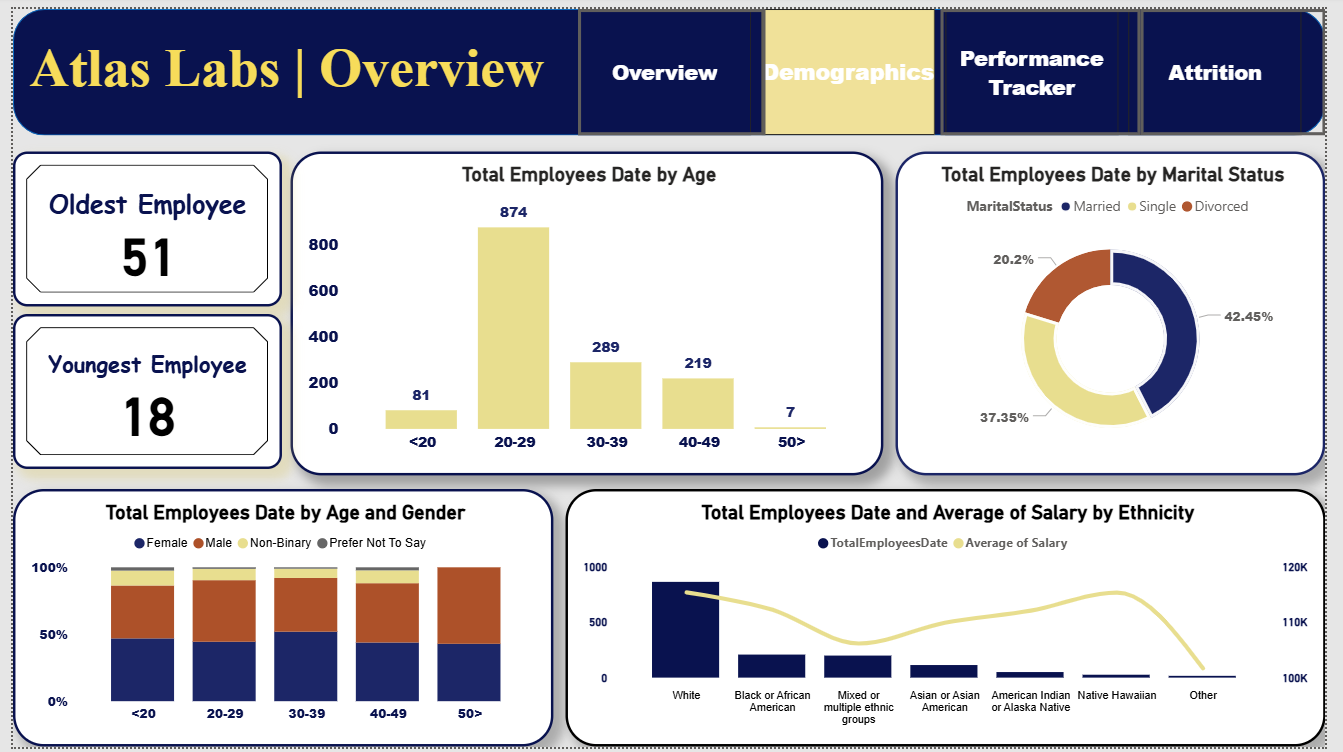

The page's visual inventory and layout, read from the dashboard file:
{"tool":"powerbi","page":{"name":"Demographics","canvas":[1280,720],"ordinal":1},"visuals":[{"type":"shape","box":[0,0,1280.3,123.5],"z":0},{"type":"textbox","box":[11,22,520.1,81],"z":1000},{"type":"pageNavigator","box":[551.6,0,706.7,123.5],"z":2000},{"type":"clusteredColumnChart","title":"Total Employees Date by Age ","fields":{"Y":["_Measures.TotalEmployeesDate"],"Category":["DimEmployee.Age Bins"]},"box":[270.7,139,578,315.9],"z":3000},{"type":"donutChart","title":"Total Employees Date by Marital Status","fields":{"Y":["_Measures.TotalEmployeesDate"],"Category":["DimEmployee.MaritalStatus"]},"box":[861,139,419.5,315.9],"z":4000},{"type":"hundredPercentStackedColumnChart","title":"Total Employees Date by Age and Gender","fields":{"Y":["_Measures.TotalEmployeesDate"],"Series":["DimEmployee.Gender"],"Category":["DimEmployee.Age Bins"]},"box":[0,468.3,526.8,251.2],"z":5000},{"type":"lineStackedColumnComboChart","title":"Total Employees Date and Average of Salary by Ethnicity","fields":{"Category":["DimEmployee.Ethnicity"],"Y":["_Measures.TotalEmployeesDate"],"Y2":["Avg(DimEmployee.Salary)"]},"box":[539,468.3,741.5,251.2],"z":6000},{"type":"cardVisual","fields":{"Data":["Max(DimEmployee.Age)"]},"box":[0,139,262.2,151.2],"z":7000},{"type":"cardVisual","fields":{"Data":["Min(DimEmployee.Age)"]},"box":[0,297.6,262.2,151.2],"z":8000},{"type":"actionButton","box":[904.9,0,195.1,123.2],"z":8001},{"type":"actionButton","box":[551.2,0,182.9,123.2],"z":8002},{"type":"actionButton","box":[1100,0,180.5,123.2],"z":8003}]}

Visuals, with their boxes in screenshot pixels (x1, y1, x2, y2), scaled from the page's 1280x720 canvas onto the 1343x752 screenshot:
shape: left=0, top=0, right=1342, bottom=129
textbox: left=12, top=23, right=557, bottom=108
pageNavigator: left=579, top=0, right=1320, bottom=129
"Total Employees Date by Age " clusteredColumnChart: left=284, top=145, right=890, bottom=475
"Total Employees Date by Marital Status" donutChart: left=903, top=145, right=1342, bottom=475
"Total Employees Date by Age and Gender" hundredPercentStackedColumnChart: left=0, top=489, right=553, bottom=751
"Total Employees Date and Average of Salary by Ethnicity" lineStackedColumnComboChart: left=566, top=489, right=1342, bottom=751
cardVisual - Max(DimEmployee.Age): left=0, top=145, right=275, bottom=303
cardVisual - Min(DimEmployee.Age): left=0, top=311, right=275, bottom=469
actionButton: left=949, top=0, right=1154, bottom=129
actionButton: left=578, top=0, right=770, bottom=129
actionButton: left=1154, top=0, right=1342, bottom=129
